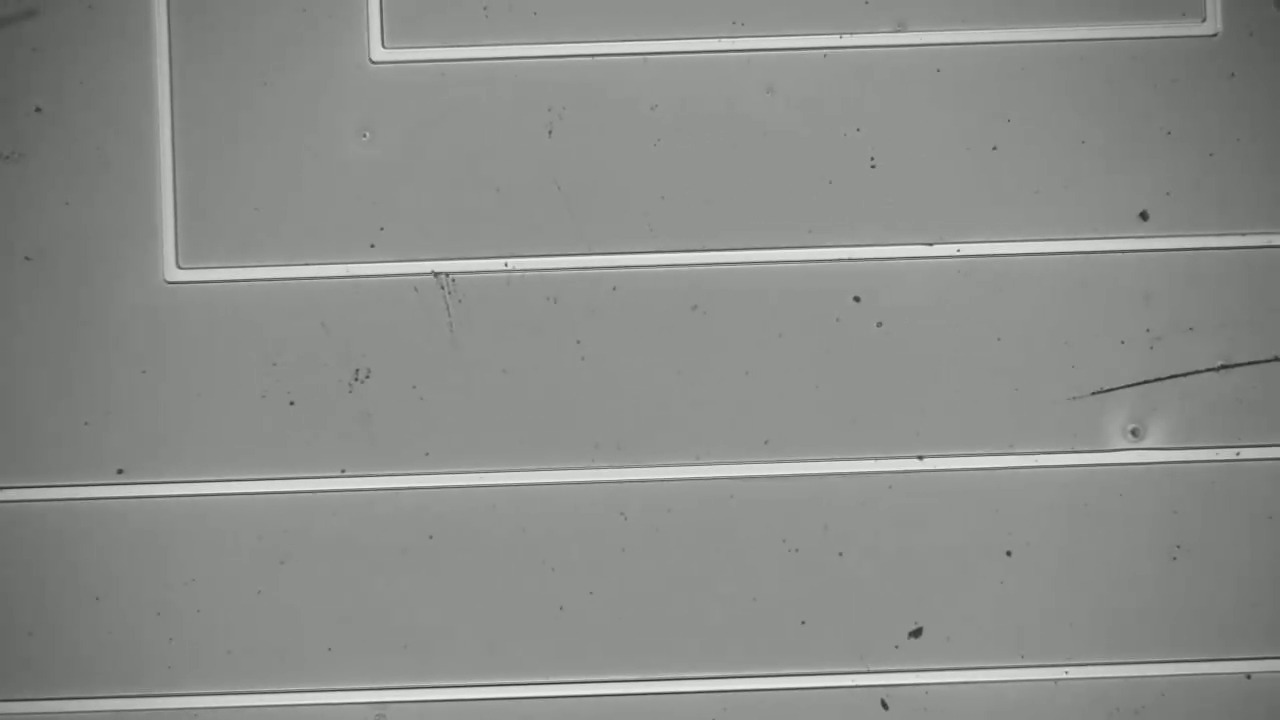scratch: (1048, 338, 1280, 407)
